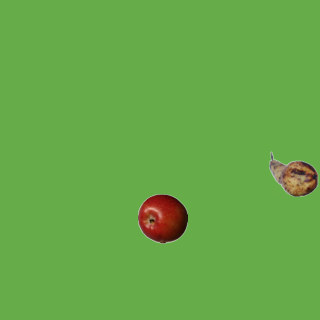Apple Braeburn: (137, 193, 187, 243)
Pear Abate: (268, 149, 318, 199)
